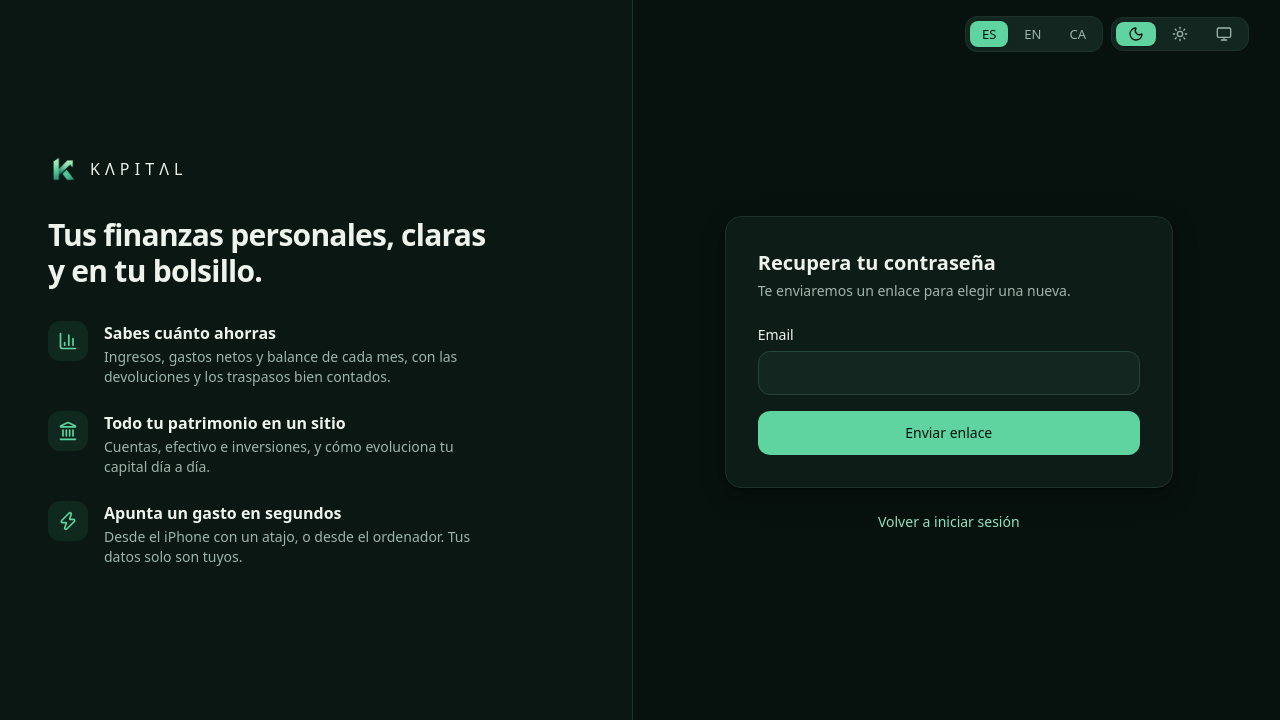
Recuperar › envía el enlace a /restablecer y muestra un mensaje neutro
Type "ana@ejemplo.com" into the field labelled "Email" at (949, 373), box [758,351,1140,395]
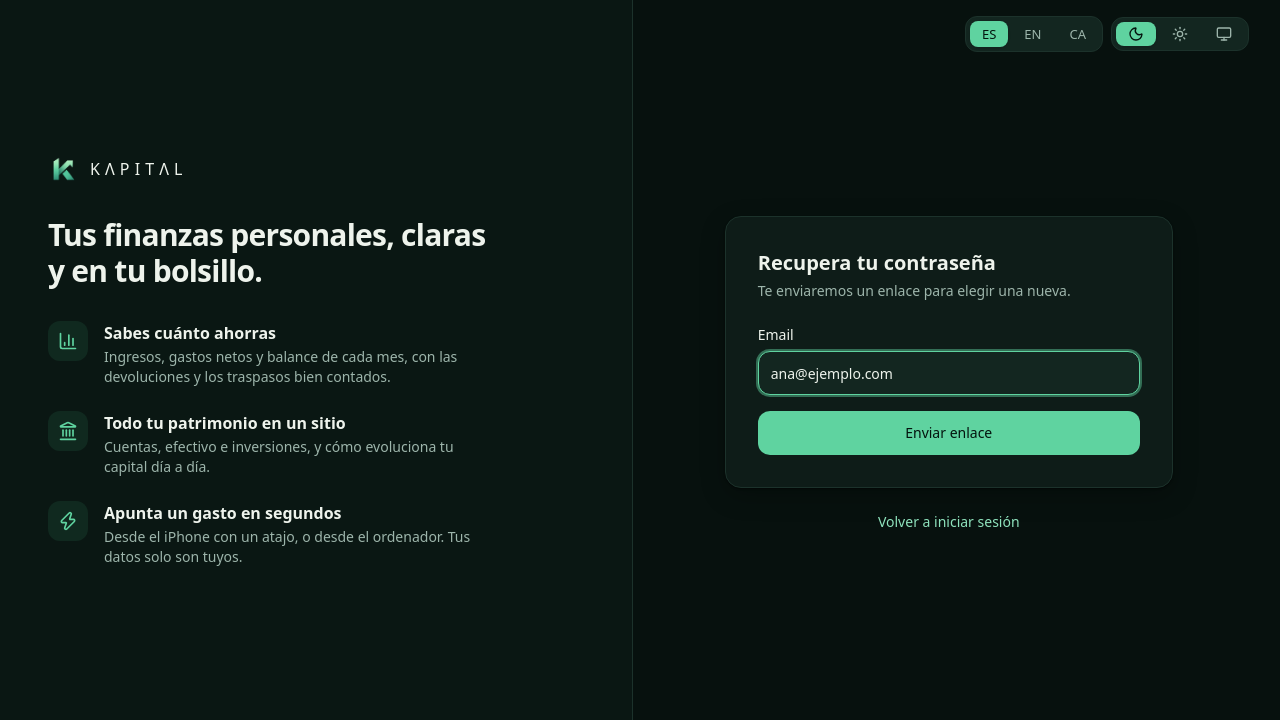
Click the button "Enviar enlace" at (949, 433), box [758,411,1140,455]
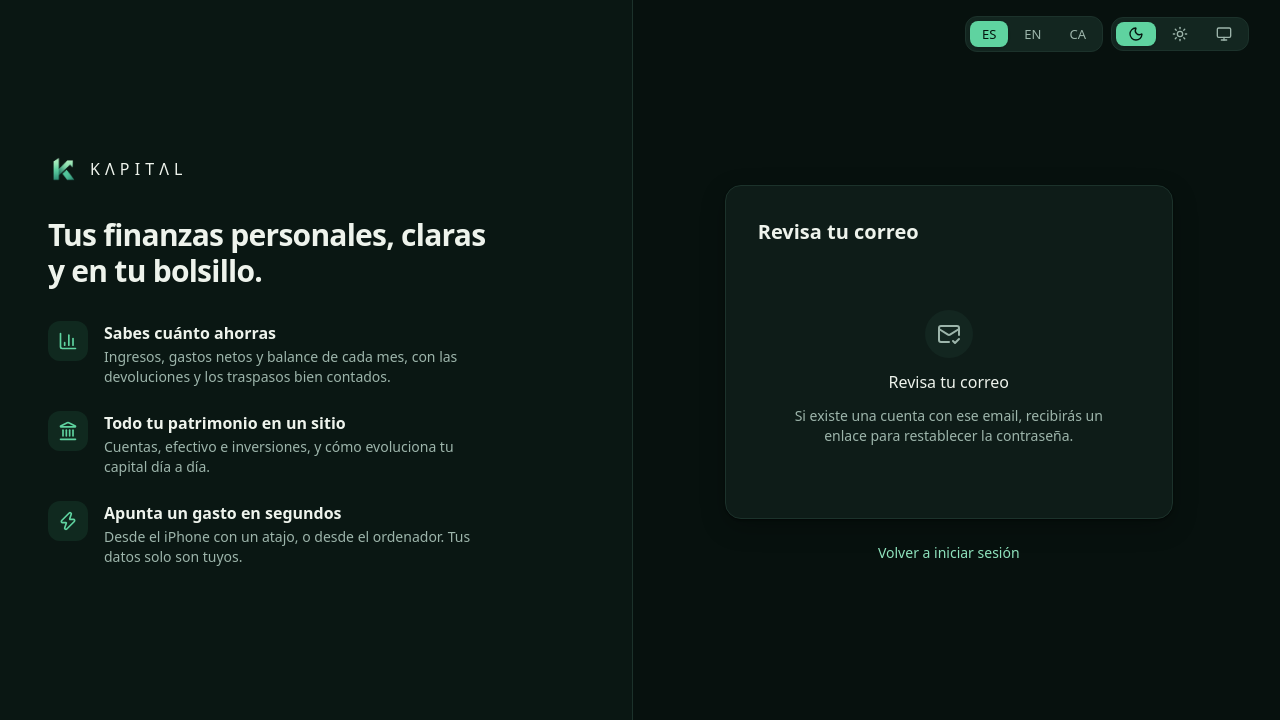
Check: the message shows "Si existe una cuenta con ese email", box [795,406,1103,445]
